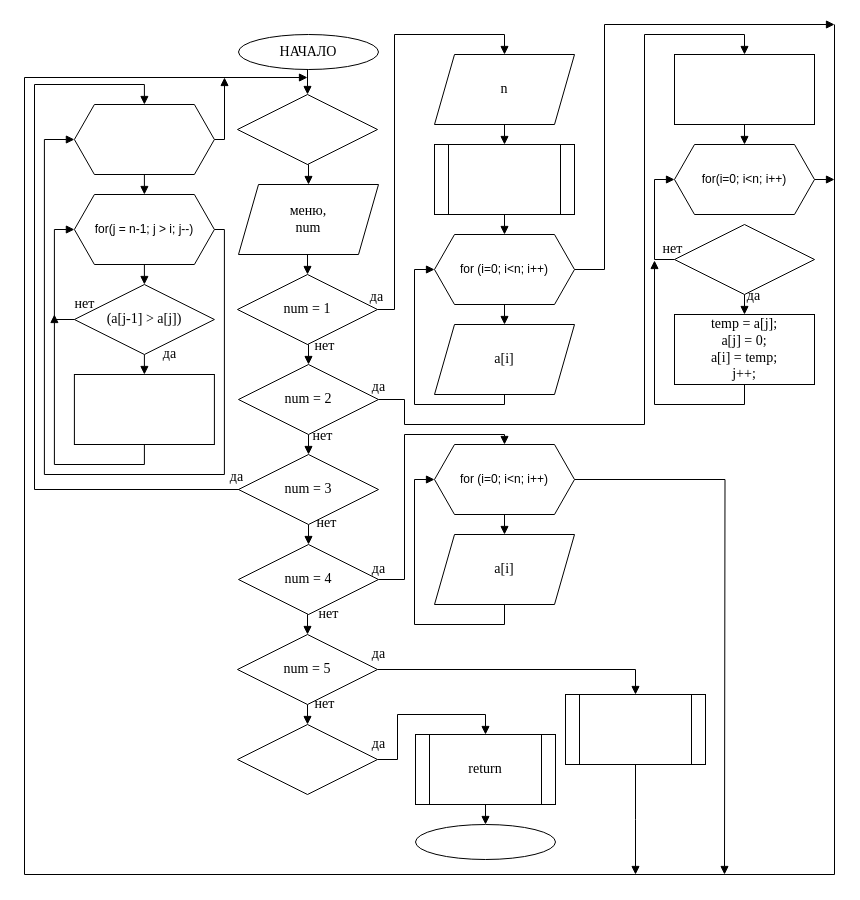
Image size: 860x900. Some labels were removed from this diagram. The shapes that lost their labels are listed below. From the top down, each one's centre as x and y in pixels, then its label:
At [744,89]: "j = 0".
At [143,139]: "for(i = 0; i < n-1; i++)".
At [307,129]: "while (1)".
At [504,179]: "a = (float*)malloc (n*sizeof(float));".
At [744,259]: "(a[i] == 0)".
At [143,409]: "temp = a[j-1]; a[j-1] = a[j]; a[j] = temp;".
At [635,729]: "free(a)".
At [307,759]: "num = 6".
At [485,842]: "КОНЕЦ".
